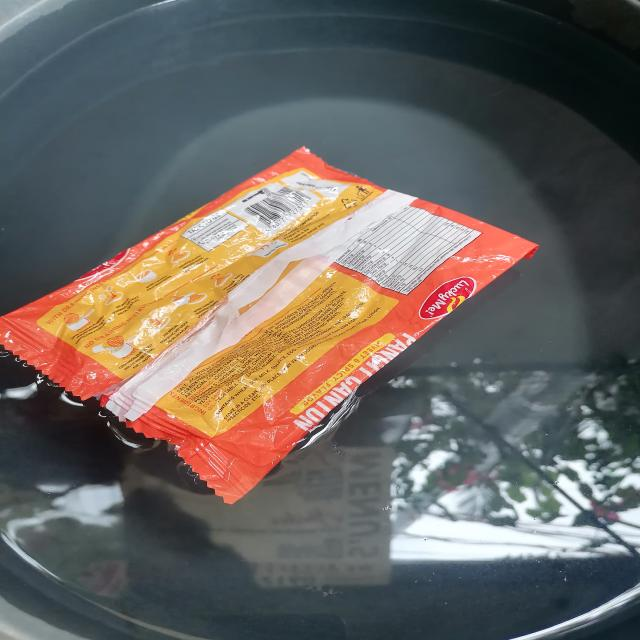Plastic Wrapper: (0, 147, 538, 503)
